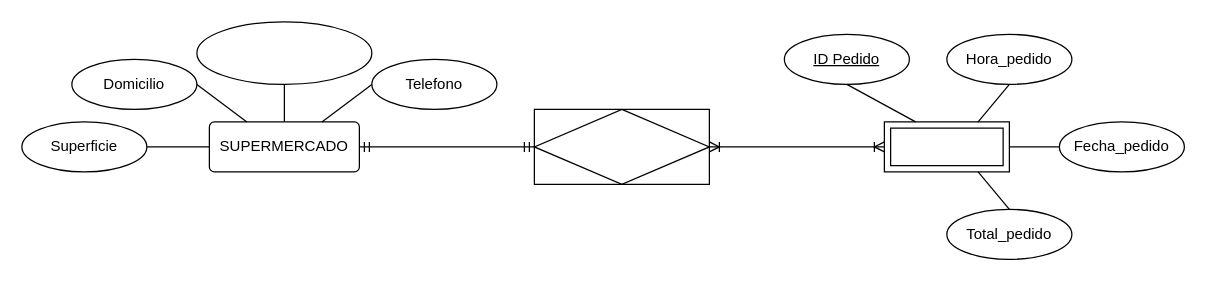
Some shapes in this 1206 by 281 pixel diagram are drawn without their labels. The box of each missing label's shape, as (x1, y1, x2, y2) in pixels:
Codigo_supermercado: (196, 21, 372, 84)
PEDIDOS: (883, 121, 1009, 172)
sirven: (533, 108, 709, 184)
